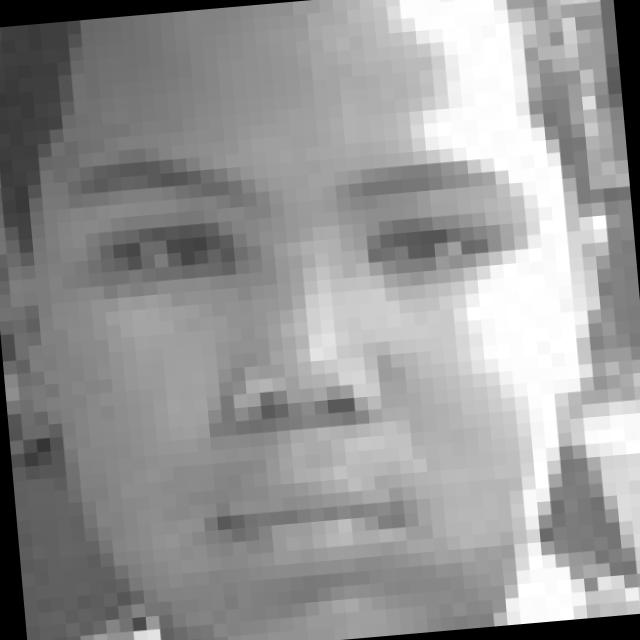neutral: (53, 112, 566, 598)
